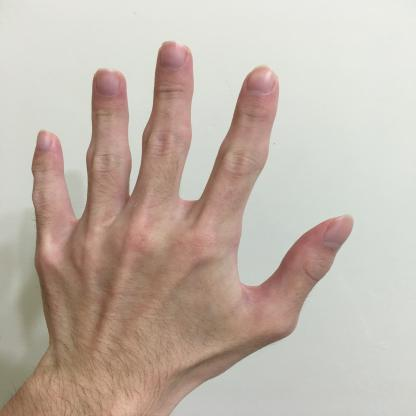bare_hand: (13, 33, 358, 403)
